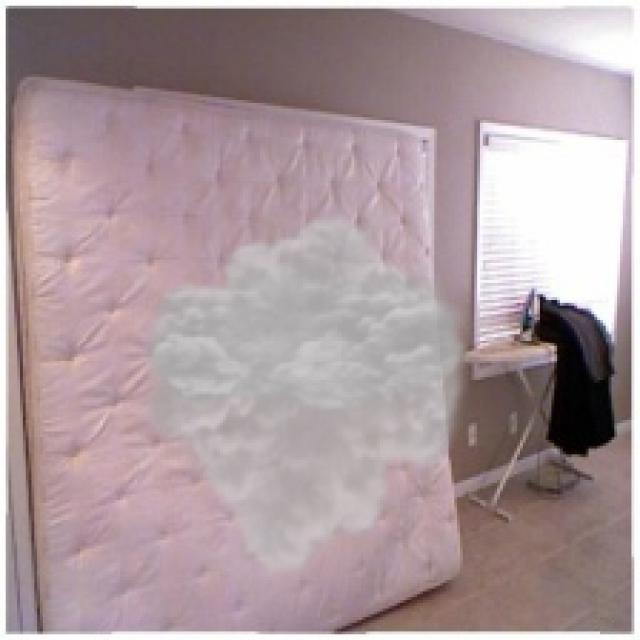smoke: (134, 211, 477, 583)
